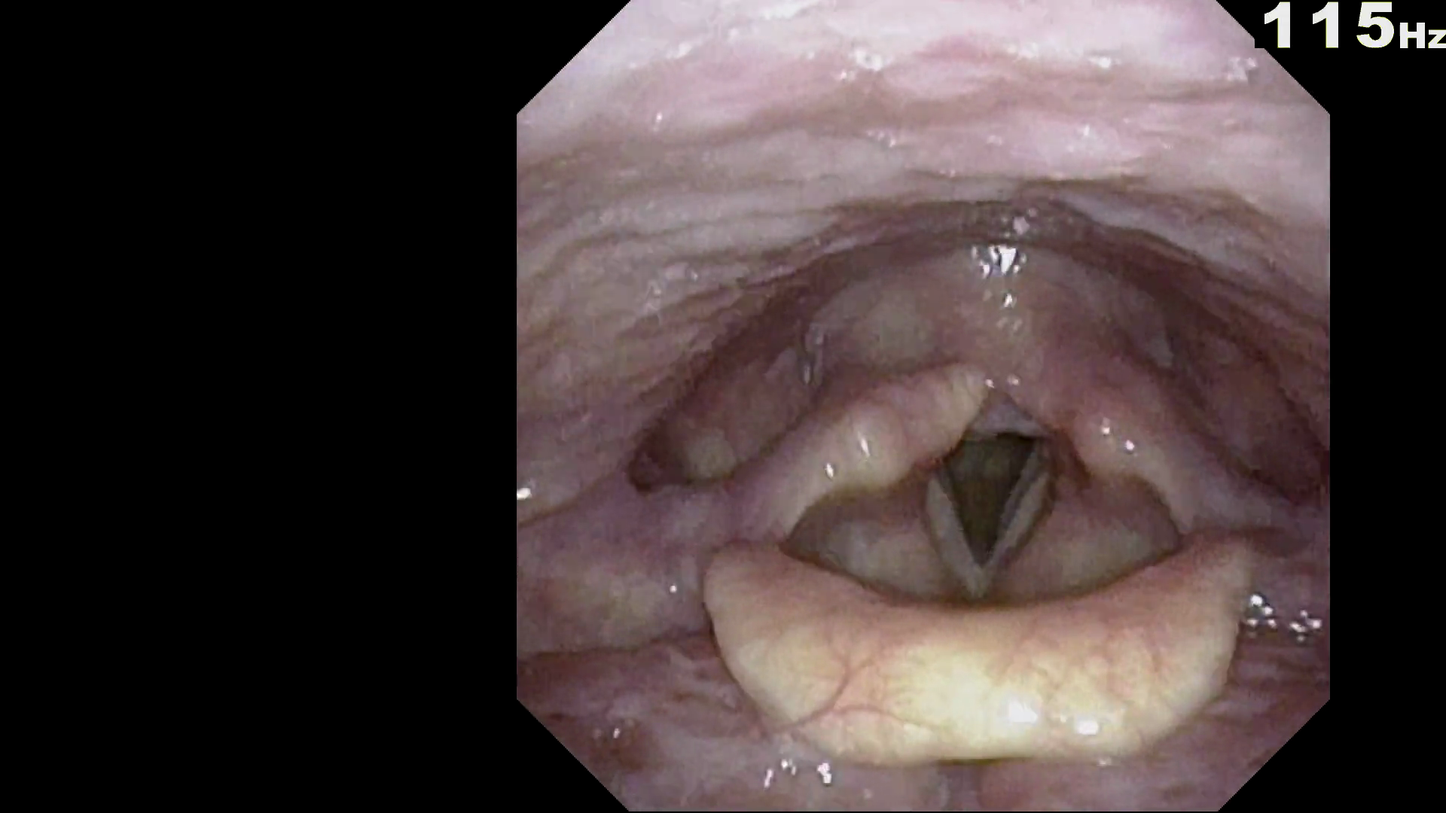epiglottis: (661, 510, 1290, 793)
trachea: (899, 400, 1066, 589)
